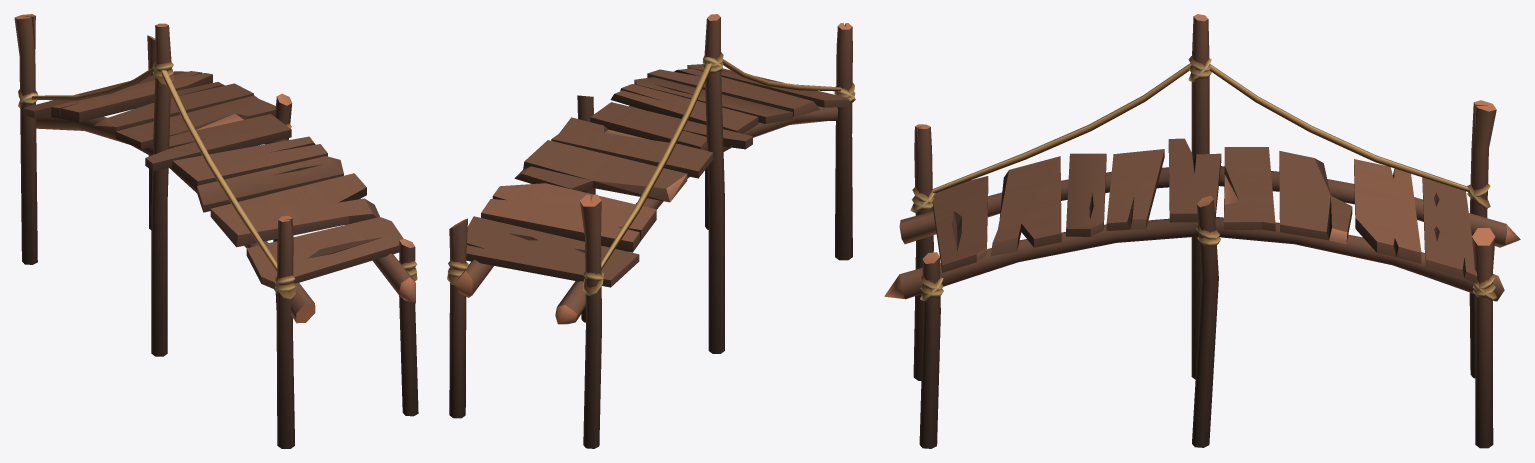
Rendered from Bridge_3B.fbx.
The picture shows the model from 3 angles, left to right: view 1: azimuth 30°, elevation 25°; view 2: azimuth 150°, elevation 25°; view 3: azimuth 270°, elevation 25°; orthographic projection. The views are drawn at different scales.
Parts seen in each view (by area): view 1: Bridge_3B; view 2: Bridge_3B; view 3: Bridge_3B.
Part boxes in pixels (x1,y1,x2,y2): Bridge_3B: (14, 14, 418, 448); Bridge_3B: (447, 14, 855, 448); Bridge_3B: (884, 14, 1520, 448).
Bounding box in the file's own units: 2.13 × 4.15 × 6.62.
